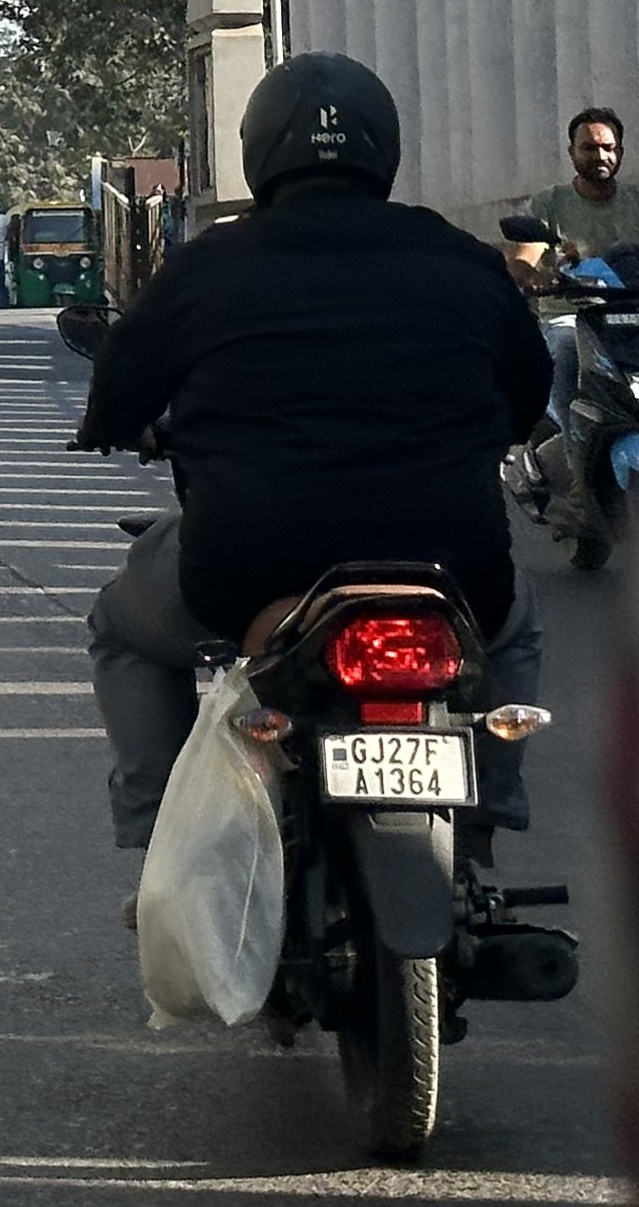BikeWithRider: (40, 40, 590, 1165), (482, 92, 639, 595)
Helmet: (220, 42, 418, 217)
NoHelmet: (548, 101, 639, 198)
